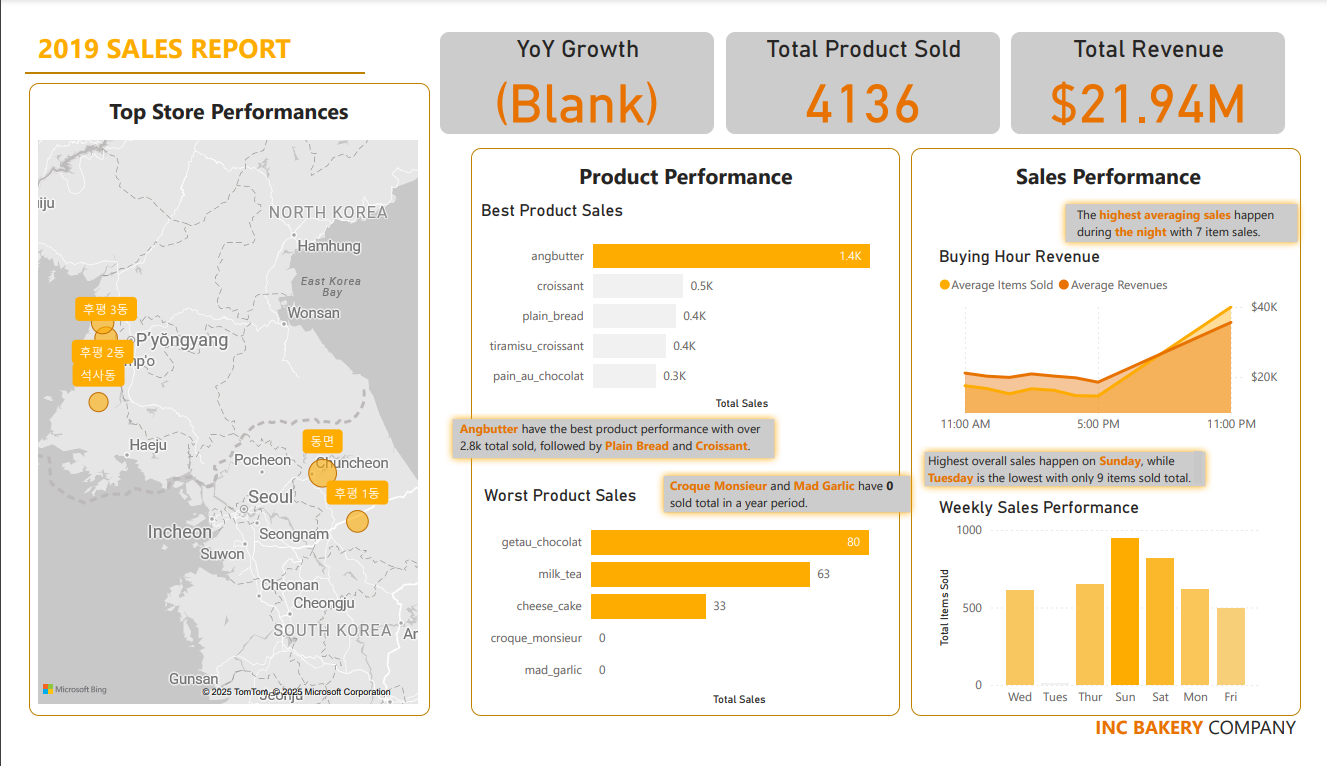

What the dashboard file says about the page in this screenshot:
{"tool":"powerbi","page":{"name":"2019 Report","canvas":[1280,720],"ordinal":0},"visuals":[{"type":"shape","box":[886.4,123.6,390,568.2],"z":0},{"type":"shape","box":[446.4,123.6,428.2,568.2],"z":1000},{"type":"shape","box":[3.6,59.1,400.9,632.7],"z":2000},{"type":"textbox","box":[8,0,412,49],"z":3000},{"type":"shape","box":[0,39,340,20],"z":4000},{"type":"textbox","box":[1001.8,685.5,274.5,34.5],"z":5000},{"type":"card","title":"Total Revenue","fields":{"Values":["Sum(public sales.total)"]},"box":[985,7,276,104],"z":6000},{"type":"card","title":"Total Product Sold","fields":{"Values":["Sum(public sales.total_items)"]},"box":[700,7,276,104],"z":7000},{"type":"map","title":"Top 5 Buyer Origin","fields":{"Category":["public sales.place"],"Size":["Sum(public sales.total)"]},"box":[8,111,390,574],"z":8000},{"type":"lineClusteredColumnComboChart","title":"Weekly Sales Performance","fields":{"Category":["public sales.day_of_week"],"Y":["Sum(public sales.total_items)"]},"box":[909.1,472.7,330,218.2],"z":9000},{"type":"card","title":"YoY Growth","fields":{"Values":["public sales.total YoY%"]},"box":[413.6,7.4,276.4,103.6],"z":10000},{"type":"shape","box":[892.4,420.4,295.3,50],"z":11000},{"type":"textbox","box":[898.2,421.8,283.6,43.6],"z":12000},{"type":"textbox","box":[59.1,67.3,290,40.9],"z":13000},{"type":"clusteredBarChart","title":"Best Product Sales","fields":{"Category":["Total_Item_Sold.Item"],"Y":["Sum(Total_Item_Sold.Total_Sold)"]},"box":[450.9,176.4,420,213.6],"z":14000},{"type":"clusteredBarChart","title":"Worst Product Sales","fields":{"Category":["Total_Item_Sold.Item"],"Y":["Sum(Total_Item_Sold.Total_Sold)"]},"box":[453.6,461,414.5,224.5],"z":15000},{"type":"textbox","box":[543.6,131.8,234.5,40.9],"z":16000},{"type":"shape","box":[630.9,443.6,261.8,52.7],"z":17000},{"type":"textbox","box":[640,447.3,253.6,50],"z":18000},{"type":"shape","box":[420,387.3,337.3,54.5],"z":19000},{"type":"textbox","box":[430,390,331.8,58.2],"z":20000},{"type":"areaChart","title":"Buying Hour Revenue ","fields":{"Category":["public sales.buy_hour"],"Y":["Avg(public sales.total_items)"],"Y2":["Avg(public sales.total)"]},"box":[909.1,221.8,349.1,196.4],"z":21000},{"type":"textbox","box":[966.4,131.8,234.5,40.9],"z":22000},{"type":"shape","box":[1032.7,171.8,247.3,54.5],"z":23000},{"type":"textbox","box":[1047.3,176.4,232.7,51.8],"z":24000}]}

Visuals, with their boxes in screenshot pixels (x1, y1, x2, y2), scaled from the page's 1280x720 canvas onto the 1327x766 screenshot:
shape: (919, 131, 1323, 736)
shape: (463, 131, 907, 736)
shape: (4, 63, 419, 736)
textbox: (8, 0, 435, 52)
shape: (0, 41, 352, 63)
textbox: (1039, 729, 1323, 765)
"Total Revenue" card: (1021, 7, 1307, 118)
"Total Product Sold" card: (726, 7, 1012, 118)
"Top 5 Buyer Origin" map: (8, 118, 413, 729)
"Weekly Sales Performance" lineClusteredColumnComboChart: (942, 503, 1285, 735)
"YoY Growth" card: (429, 8, 715, 118)
shape: (925, 447, 1231, 500)
textbox: (931, 449, 1225, 495)
textbox: (61, 72, 362, 115)
"Best Product Sales" clusteredBarChart: (467, 188, 903, 415)
"Worst Product Sales" clusteredBarChart: (470, 490, 900, 729)
textbox: (564, 140, 807, 184)
shape: (654, 472, 925, 528)
textbox: (664, 476, 926, 529)
shape: (435, 412, 785, 470)
textbox: (446, 415, 790, 477)
"Buying Hour Revenue " areaChart: (942, 236, 1304, 445)
textbox: (1002, 140, 1245, 184)
shape: (1071, 183, 1326, 241)
textbox: (1086, 188, 1326, 243)
